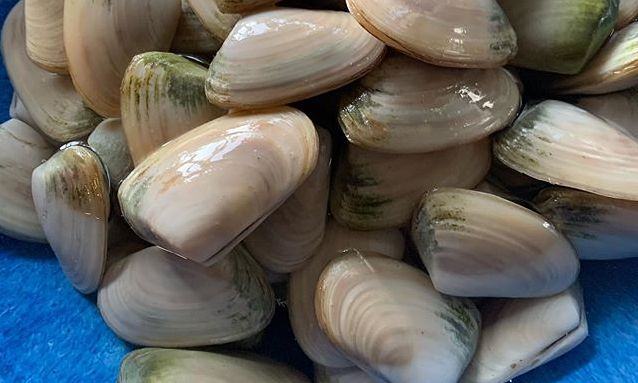tuatua: (114, 104, 321, 267), (312, 249, 484, 381), (405, 187, 583, 299), (96, 243, 277, 349), (339, 52, 522, 155), (204, 7, 387, 107), (493, 98, 638, 206), (58, 1, 183, 124), (331, 140, 496, 233), (28, 140, 111, 295), (343, 1, 521, 70), (474, 288, 595, 383), (121, 49, 222, 161), (501, 1, 625, 76), (535, 179, 638, 264)
